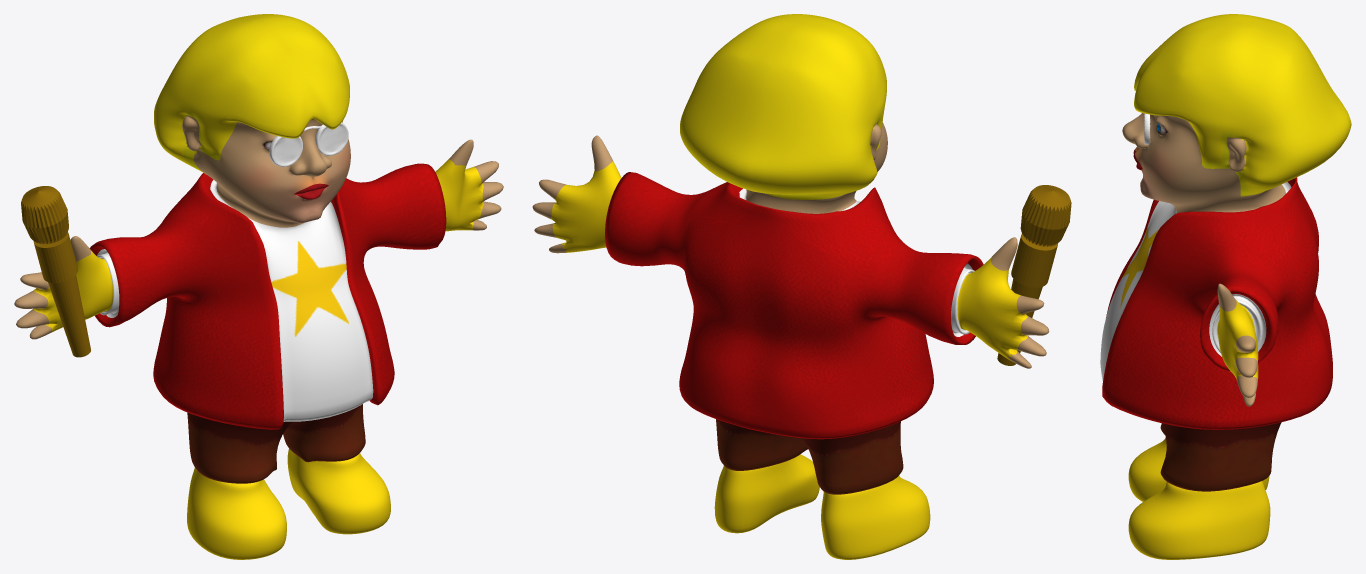
File: RH130501301Reporter3Cabelo15.glb
The picture shows the model from 3 angles, left to right: view 1: azimuth 30°, elevation 25°; view 2: azimuth 150°, elevation 25°; view 3: azimuth 270°, elevation 25°; orthographic projection. The views are drawn at different scales.
Parts seen in each view (by area): view 1: SKIN, MICROFONE, OCULOS; view 2: SKIN, MICROFONE; view 3: SKIN.
Boxes of the visible parts, box(x1,y1,x2,y2) form: SKIN: box(14, 14, 503, 559); MICROFONE: box(21, 186, 90, 357); OCULOS: box(269, 122, 348, 166); SKIN: box(532, 14, 1049, 559); MICROFONE: box(997, 185, 1071, 365); SKIN: box(1100, 14, 1351, 559).
Bounding box in the file's own units: 11.96 × 11.27 × 5.19.
Materials: 3 (1 with a texture image).
